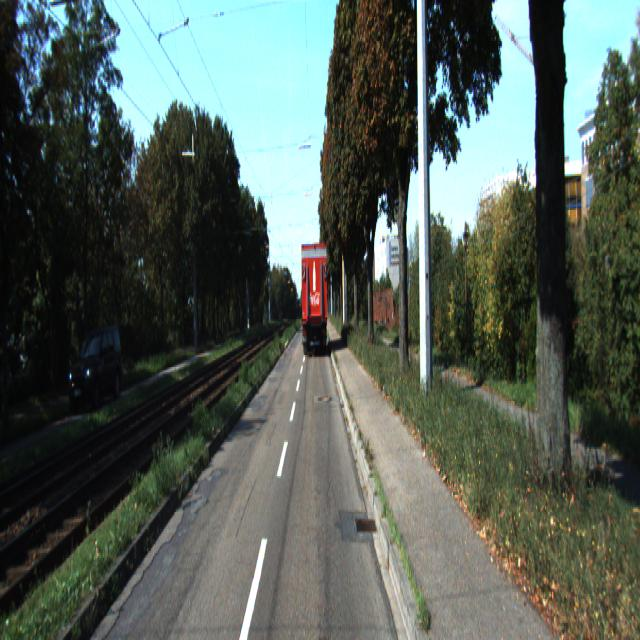Car: (68, 320, 125, 410), (300, 242, 329, 360)
